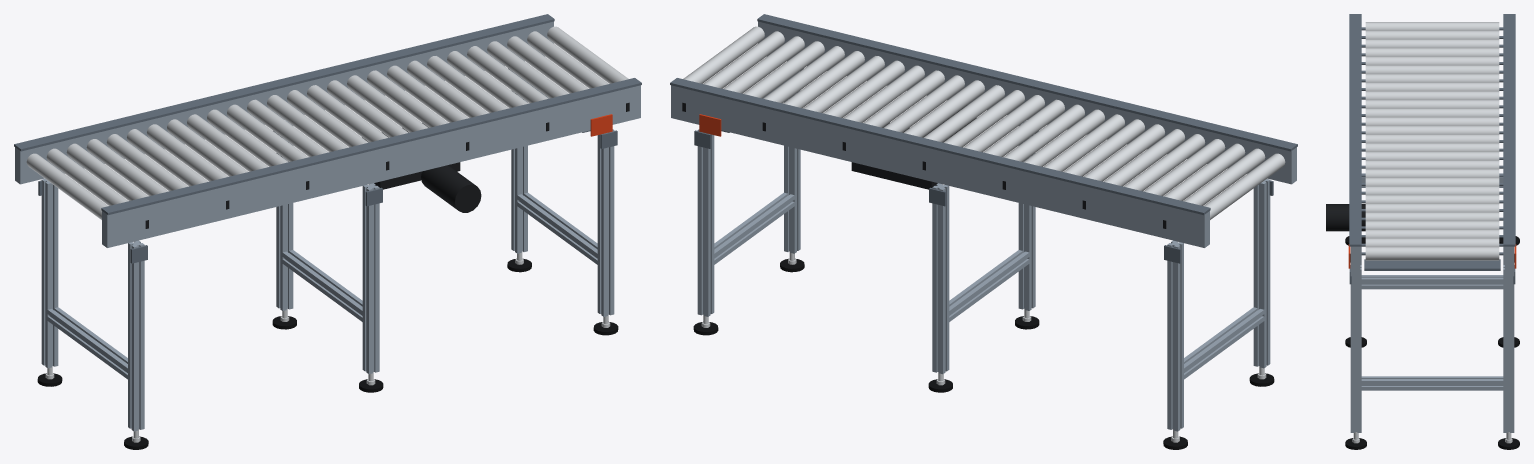
Rendered from roller_conveyor_2m.glb.
3 views of the same model, side by side, from view 1: azimuth 30°, elevation 25°; view 2: azimuth 150°, elevation 25°; view 3: azimuth 270°, elevation 25° (orthographic). The views are drawn at different scales.
Visible parts, largest first — view 1: Conveyor_Frame_alu_anodised, Conveyor_Frame_alu_dark, Conveyor_Frame_black_paint, Conveyor_Frame_rubber, Roller_01_steel_bright, Roller_27_steel_bright, Roller_02_steel_bright, Roller_06_steel_bright, Roller_20_steel_bright, Roller_25_steel_bright, Roller_18_steel_bright, Roller_04_steel_bright (+19 smaller); view 2: Conveyor_Frame_alu_anodised, Conveyor_Frame_alu_dark, Conveyor_Frame_rubber, Roller_01_steel_bright, Roller_27_steel_bright, Roller_02_steel_bright, Roller_06_steel_bright, Roller_20_steel_bright, Roller_25_steel_bright, Roller_18_steel_bright, Roller_04_steel_bright, Roller_10_steel_bright (+19 smaller); view 3: Conveyor_Frame_alu_anodised, Conveyor_Frame_alu_dark, Roller_27_steel_bright, Stopper_Mount_alu_dark, Roller_02_steel_bright, Roller_05_steel_bright, Roller_08_steel_bright, Roller_11_steel_bright, Roller_14_steel_bright, Roller_19_steel_bright, Roller_22_steel_bright, Roller_25_steel_bright (+20 smaller).
Boxes of the visible parts, x1,y1,x2,y2 form: Conveyor_Frame_alu_anodised: [15, 21, 640, 431]; Conveyor_Frame_alu_dark: [14, 14, 641, 263]; Conveyor_Frame_black_paint: [145, 102, 629, 228]; Conveyor_Frame_rubber: [37, 258, 618, 449]; Roller_01_steel_bright: [26, 153, 108, 219]; Roller_27_steel_bright: [547, 26, 628, 83]; Roller_02_steel_bright: [46, 148, 128, 205]; Roller_06_steel_bright: [127, 129, 208, 186]; Roller_20_steel_bright: [407, 60, 488, 117]; Roller_25_steel_bright: [507, 36, 588, 93]; Roller_18_steel_bright: [367, 70, 448, 127]; Roller_04_steel_bright: [86, 139, 168, 196]; Conveyor_Frame_alu_anodised: [671, 21, 1296, 431]; Conveyor_Frame_alu_dark: [670, 14, 1297, 263]; Conveyor_Frame_rubber: [693, 258, 1274, 449]; Roller_01_steel_bright: [1203, 153, 1285, 219]; Roller_27_steel_bright: [683, 26, 764, 83]; Roller_02_steel_bright: [1183, 148, 1265, 205]; Roller_06_steel_bright: [1103, 129, 1184, 186]; Roller_20_steel_bright: [823, 60, 904, 117]; Roller_25_steel_bright: [723, 36, 804, 93]; Roller_18_steel_bright: [863, 70, 944, 127]; Roller_04_steel_bright: [1143, 139, 1225, 196]; Roller_10_steel_bright: [1023, 109, 1104, 166]; Conveyor_Frame_alu_anodised: [1350, 173, 1514, 432]; Conveyor_Frame_alu_dark: [1349, 14, 1515, 284]; Roller_27_steel_bright: [1365, 247, 1499, 260]; Stopper_Mount_alu_dark: [1364, 259, 1500, 270]; Roller_02_steel_bright: [1365, 30, 1499, 39]; Roller_05_steel_bright: [1365, 56, 1499, 65]; Roller_08_steel_bright: [1365, 82, 1499, 91]; Roller_11_steel_bright: [1365, 108, 1499, 117]; Roller_14_steel_bright: [1365, 134, 1499, 143]; Roller_19_steel_bright: [1365, 177, 1499, 186]; Roller_22_steel_bright: [1365, 203, 1499, 212]; Roller_25_steel_bright: [1365, 229, 1499, 238].
Bounding box in the file's own units: 2.01 × 0.868 × 0.71.
